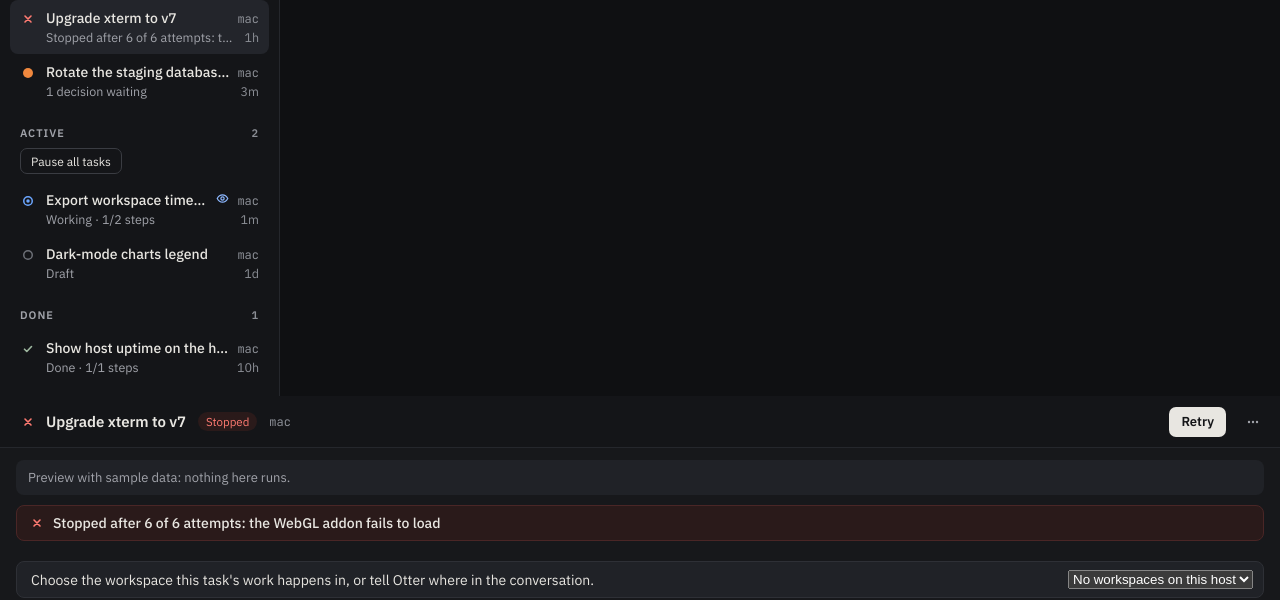
Test: Watches in Chat › marks a watched task's row and shows what it watches above the message box, with Stop
What coordinates should you click on to do the following:
click the list item "Export workspace timeline as CSV mac Working · 1/2 steps 1m"
I would click on:
 (140, 209)
Its box is [10,182,269,236].
(page scrolled)
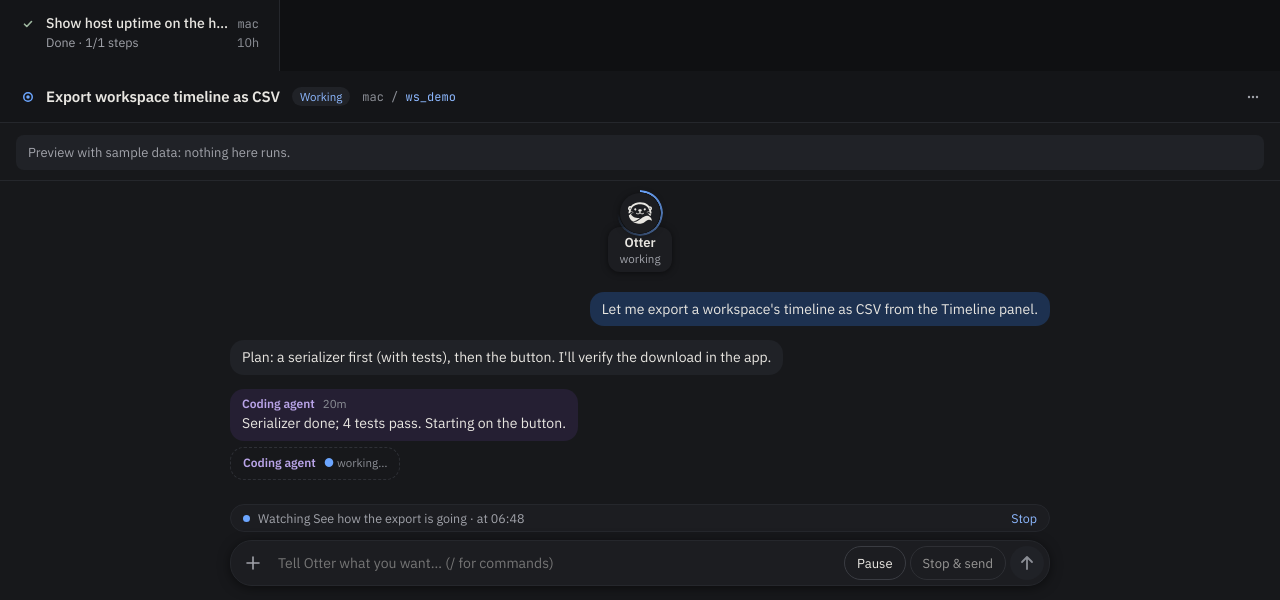
Expected: the list named "Watching" reads "Watching See how the export is going · at 06:48 Stop", [230,504,1050,532]
What coordinates should you click on to do the following:
click the button with aria-label "Stop watching See how the export is going"
I would click on:
 (1024, 518)
Its box is [1011,510,1037,526].
(page scrolled)
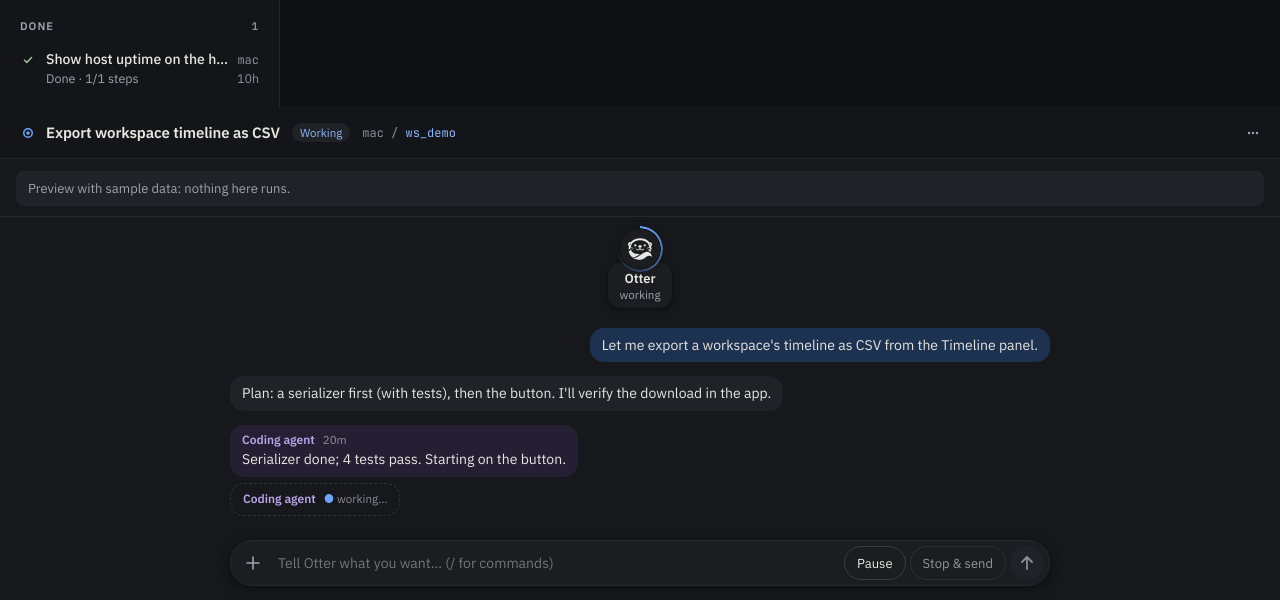
Expected: the button named "Watching" is gone
